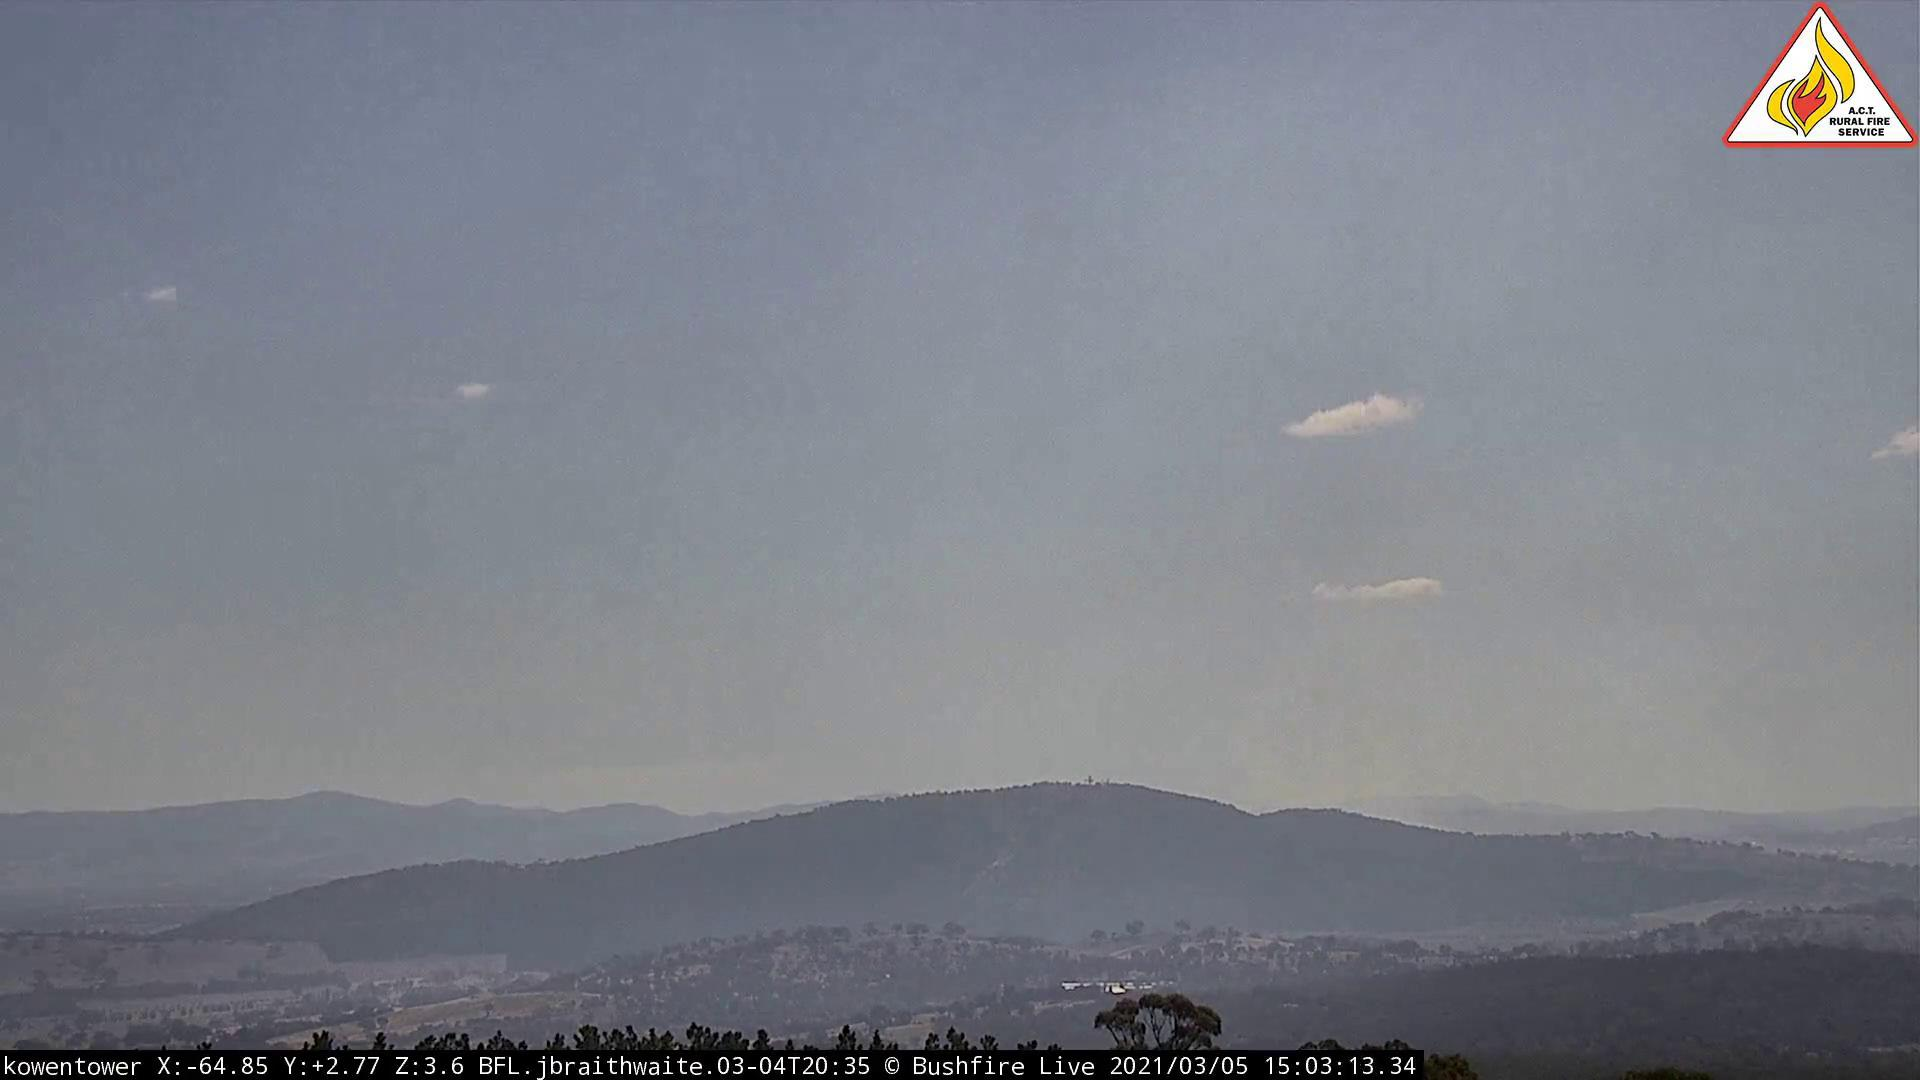Smoke: (1102, 491, 1899, 841)
